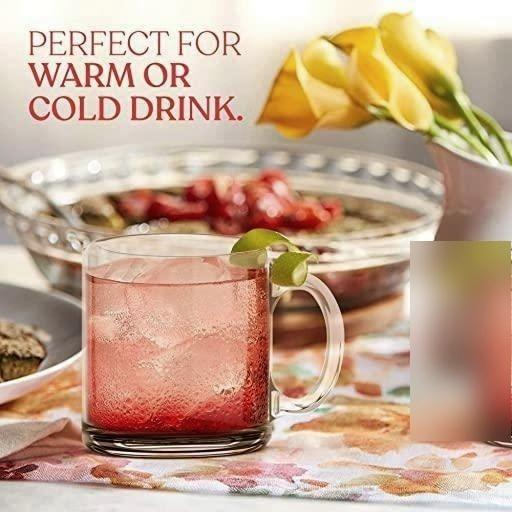glass-mug: (74, 225, 348, 458)
